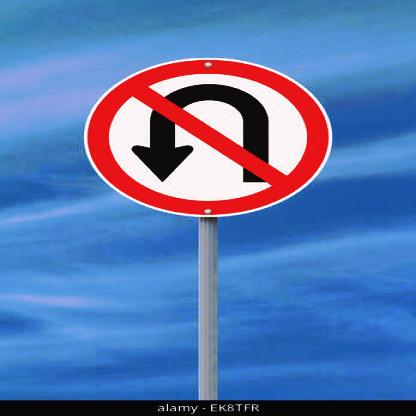No U-turn: (72, 53, 336, 225)
